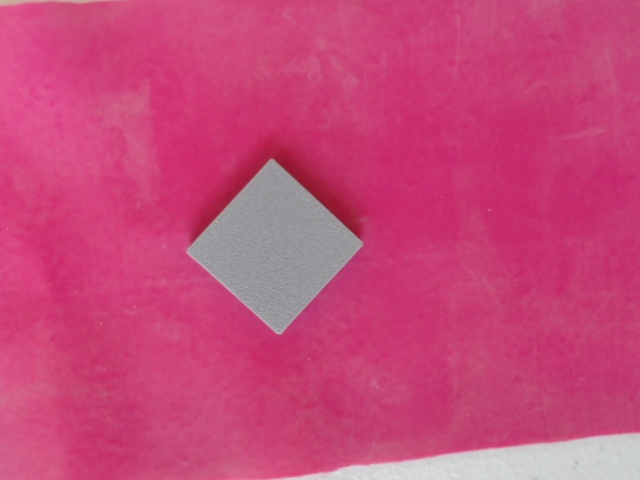Defective: (184, 153, 375, 338)
